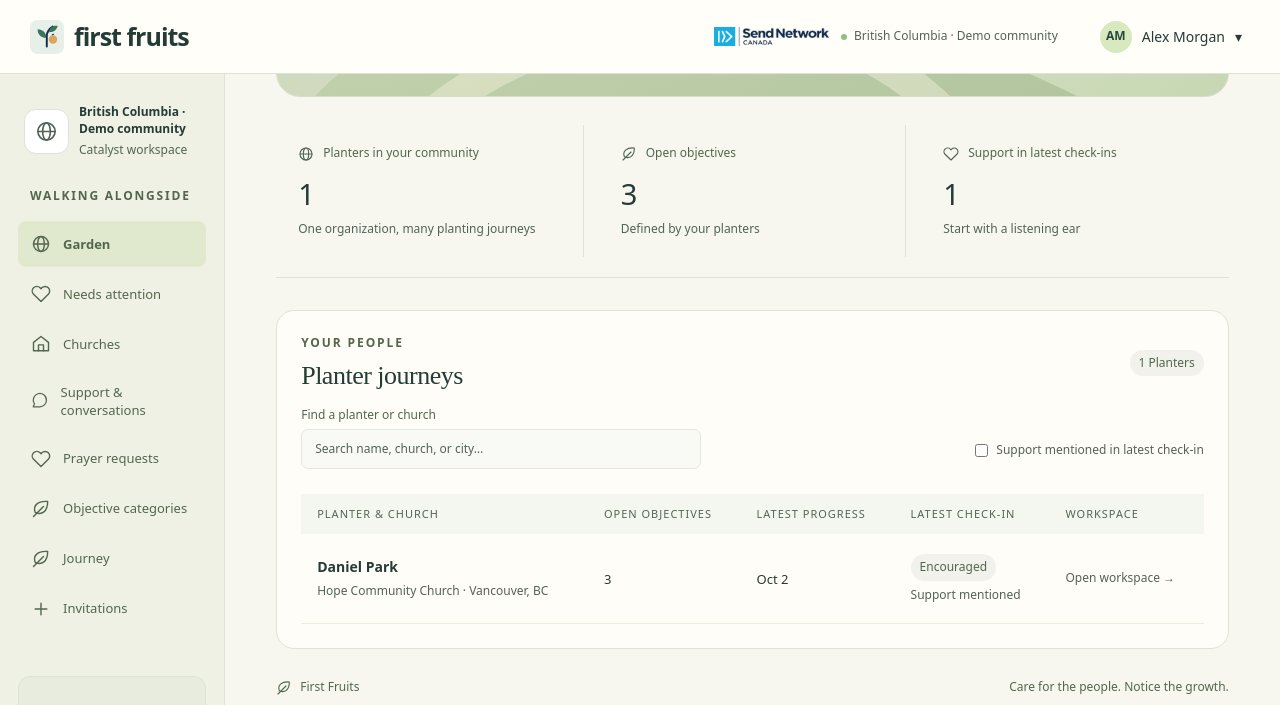
Test: filters planters by church and exposes direct workspace links
This screenshot has width=1280, height=705.
(page scrolled)
Type "no such church" into the field with placeholder "Search name, church, or city…" at (501, 449), box 301,429 -> 701,470
(page scrolled)
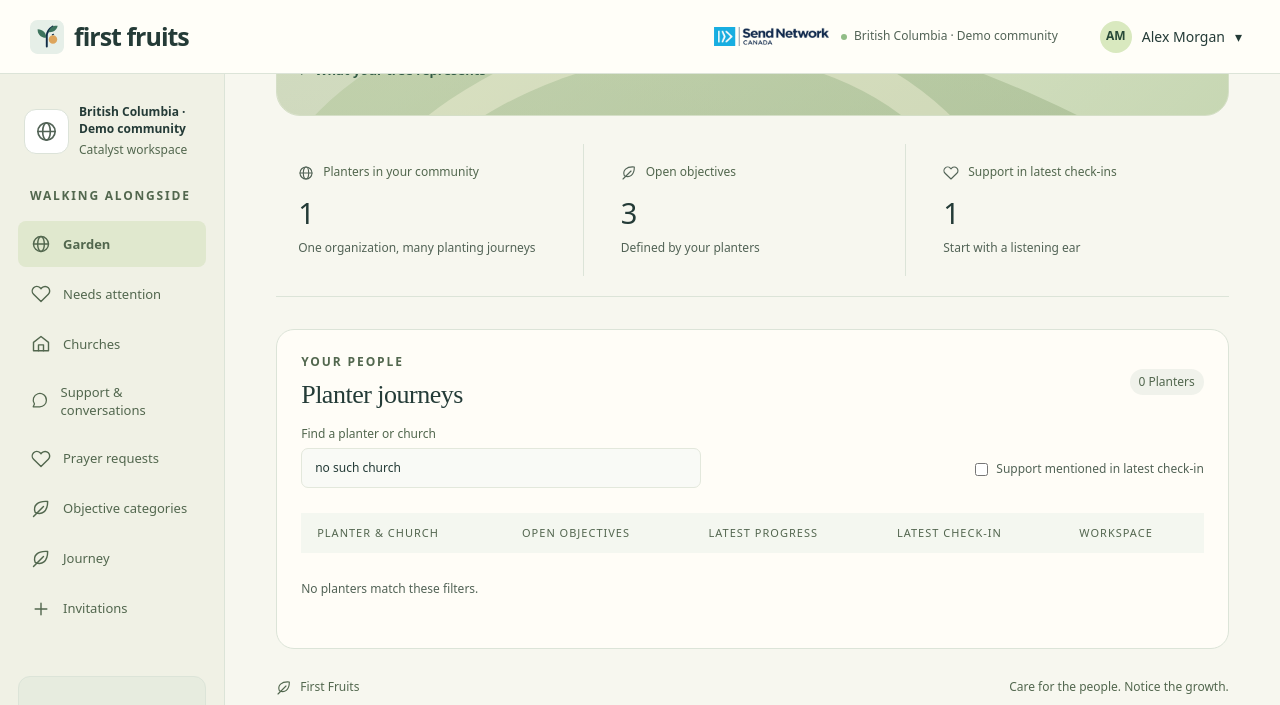
Now the text "No planters match these filters." is shown, box 301,580 -> 478,597
Replace the text in the field with placeholder "Search name, church, or city…" with "Hope" at (501, 468), box 301,448 -> 701,488
(page scrolled)
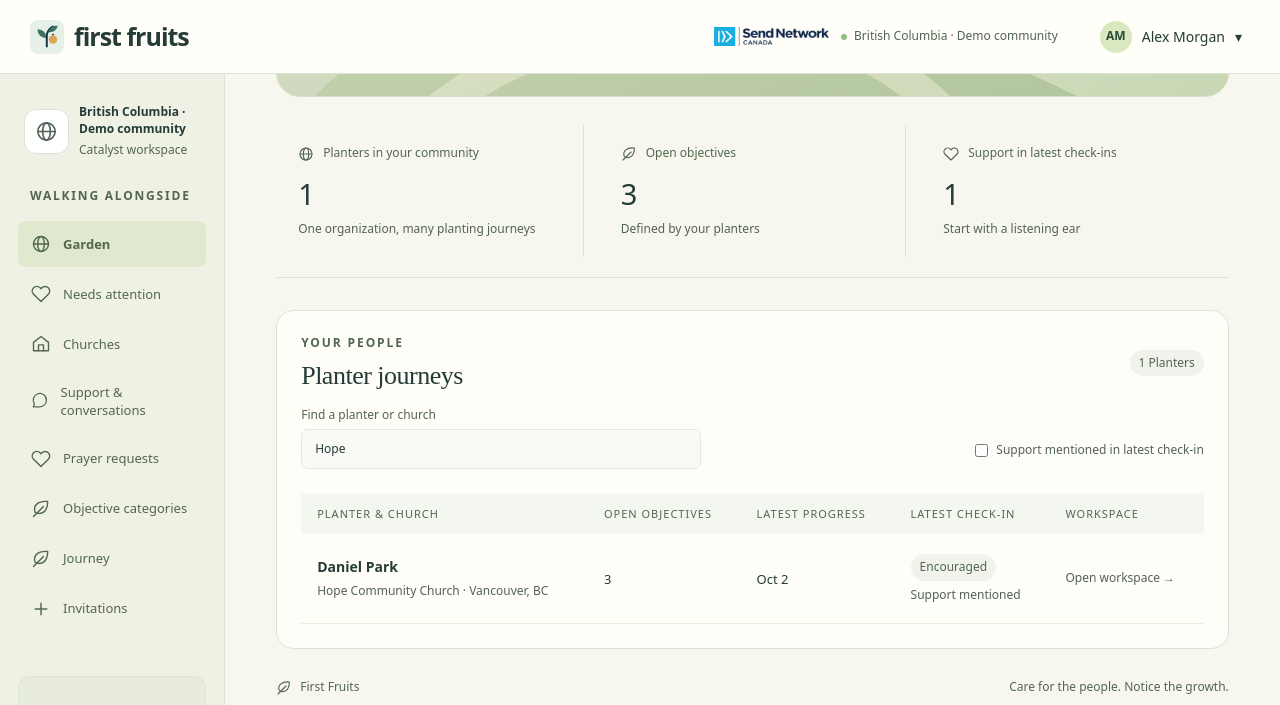
Now the link with aria-label "Open Daniel" is shown, box 1065,569 -> 1175,586
